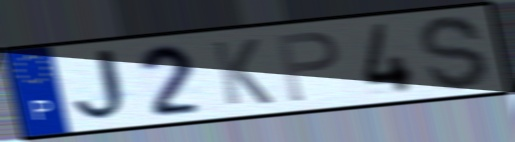2: (136, 38, 213, 123)
4: (361, 21, 417, 97)
J: (72, 45, 138, 126)
K: (208, 37, 277, 108)
P: (272, 29, 342, 105)
S: (415, 13, 493, 93)
